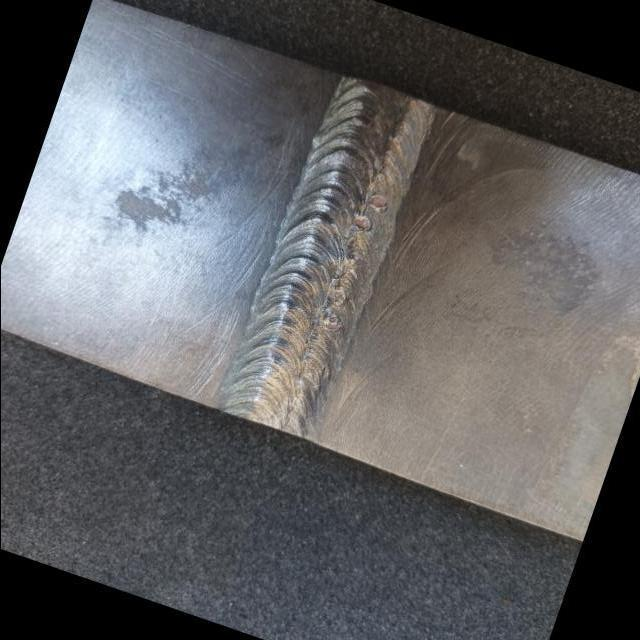defect: (319, 310, 344, 329), (324, 287, 350, 305), (367, 192, 388, 209), (352, 214, 373, 231), (348, 252, 360, 262)
